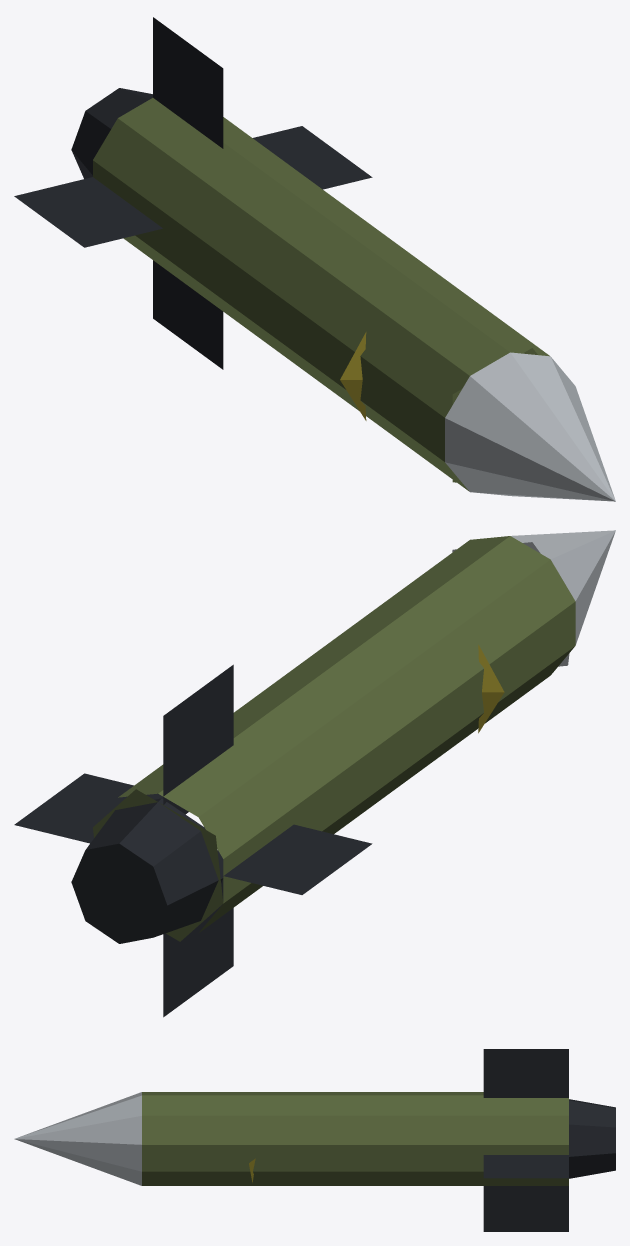
Rendered from missile-fragmentation.lod.glb.
3 views of the same model, one above another, from view 1: azimuth 30°, elevation 25°; view 2: azimuth 150°, elevation 25°; view 3: azimuth 270°, elevation 25° (orthographic). The views are drawn at different scales.
Parts seen in each view (by area): view 1: m; view 2: m; view 3: m.
Part boxes in pixels (x1=…): m: x1=14, y1=17, x2=615, y2=501; m: x1=14, y1=530, x2=615, y2=1017; m: x1=14, y1=1049, x2=615, y2=1231.
Bounding box in the file's own units: 0.067 × 0.067 × 0.2.
